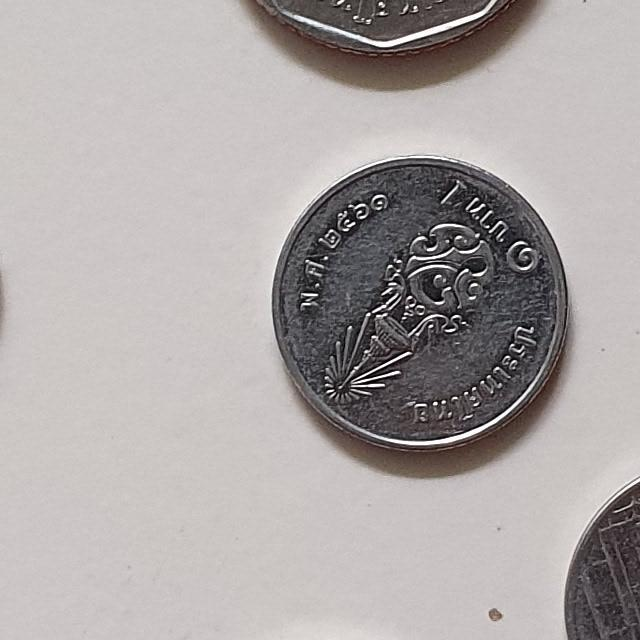1 Bath: (267, 153, 578, 464), (555, 472, 640, 640)
5 Bath: (238, 1, 538, 64)
